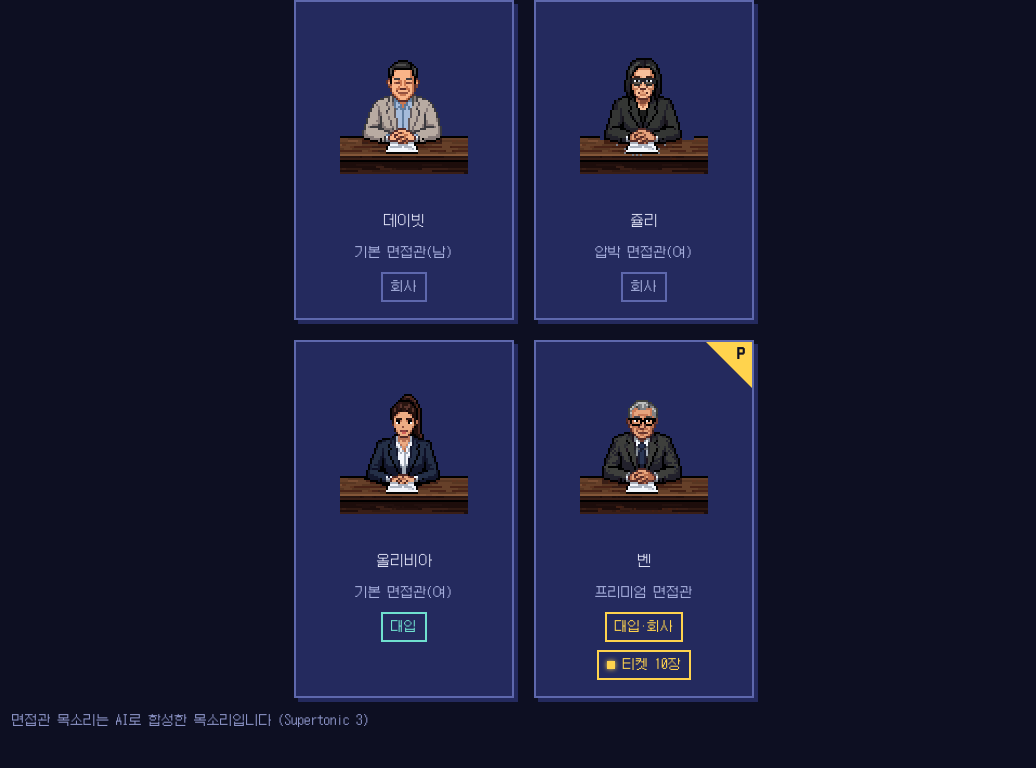
it: InterviewerPicker › InterviewerPicker — 벤(프리미엄) › 벤을 고르면 대입/회사 선택이 펼쳐진다
This screenshot has width=1036, height=768.
Click the radio button labelled "벤 프리미엄 면접관 대입·회사 티켓 10장 P" at (644, 519), box [534,340,754,698]
(page scrolled)
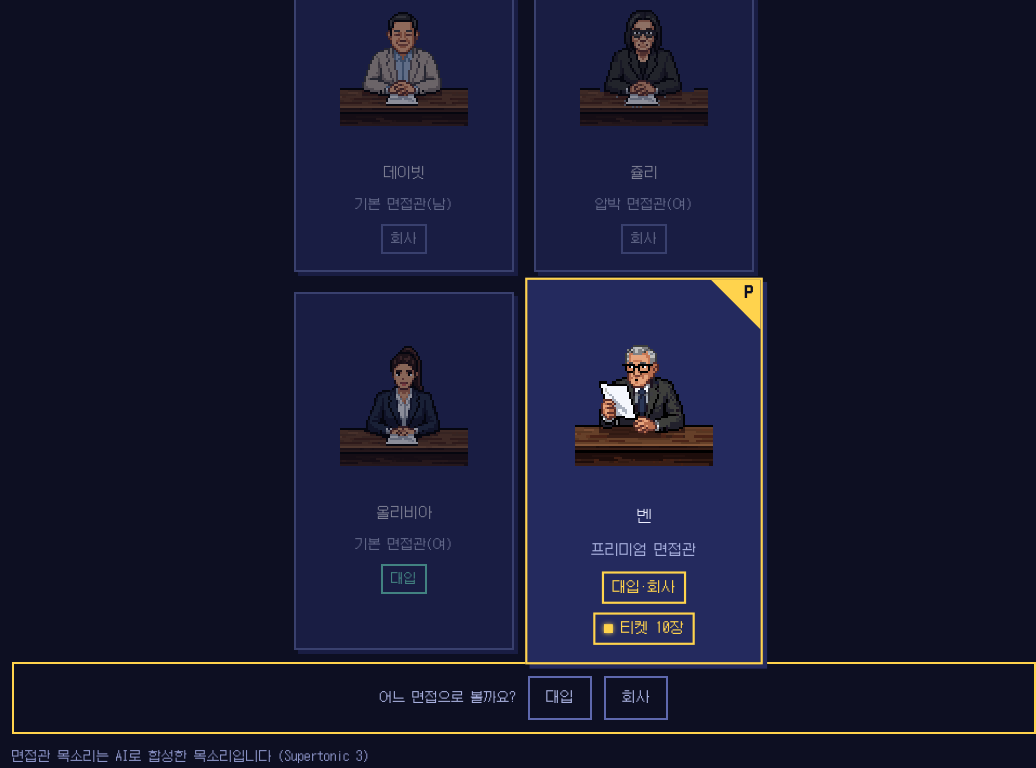
Expected: the element with test id "track-pick" is shown, [12,662,1035,734]
